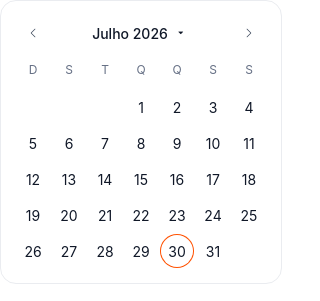
Test: Calendar › switches to month picker and back when clicking the title
Click the button "Julho 2026". click: {"x": 141, "y": 33}
box: [92,22,190,44]
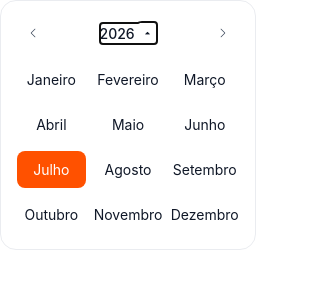
Click the button "Setembro". click: {"x": 205, "y": 170}
box: [170,151,239,188]
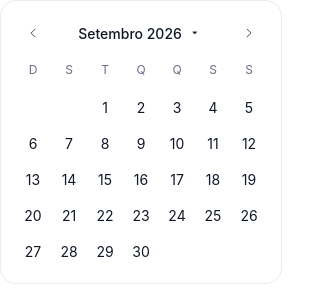
Check: the button "Setembro 2026" is shown, box [78,22,204,44]
